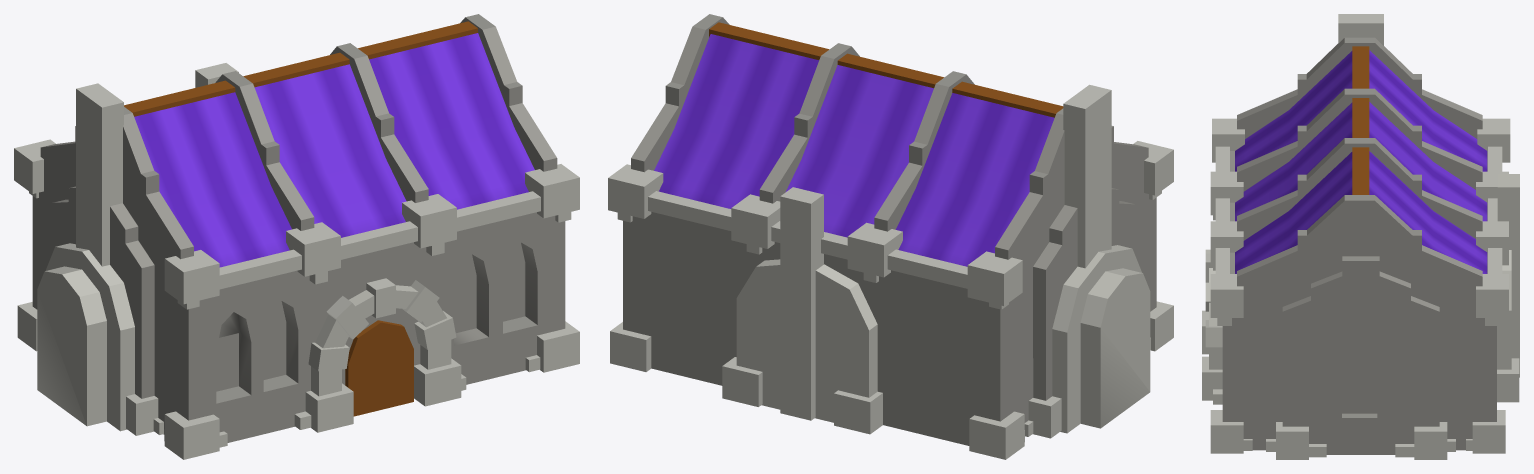
The model's file is greathall.fbx.
3 views of the same model, side by side, from view 1: azimuth 30°, elevation 25°; view 2: azimuth 150°, elevation 25°; view 3: azimuth 270°, elevation 25° (orthographic). The views are drawn at different scales.
Parts seen in each view (by area): view 1: polySurface160; view 2: polySurface160; view 3: polySurface160.
Part boxes in pixels (<box>): polySurface160: <box>14,14,579,459</box>; polySurface160: <box>608,14,1173,459</box>; polySurface160: <box>1202,14,1519,459</box>.
Size of the model in its own units: 351 by 227 by 245.
Materials: 1 (1 with a texture image).
